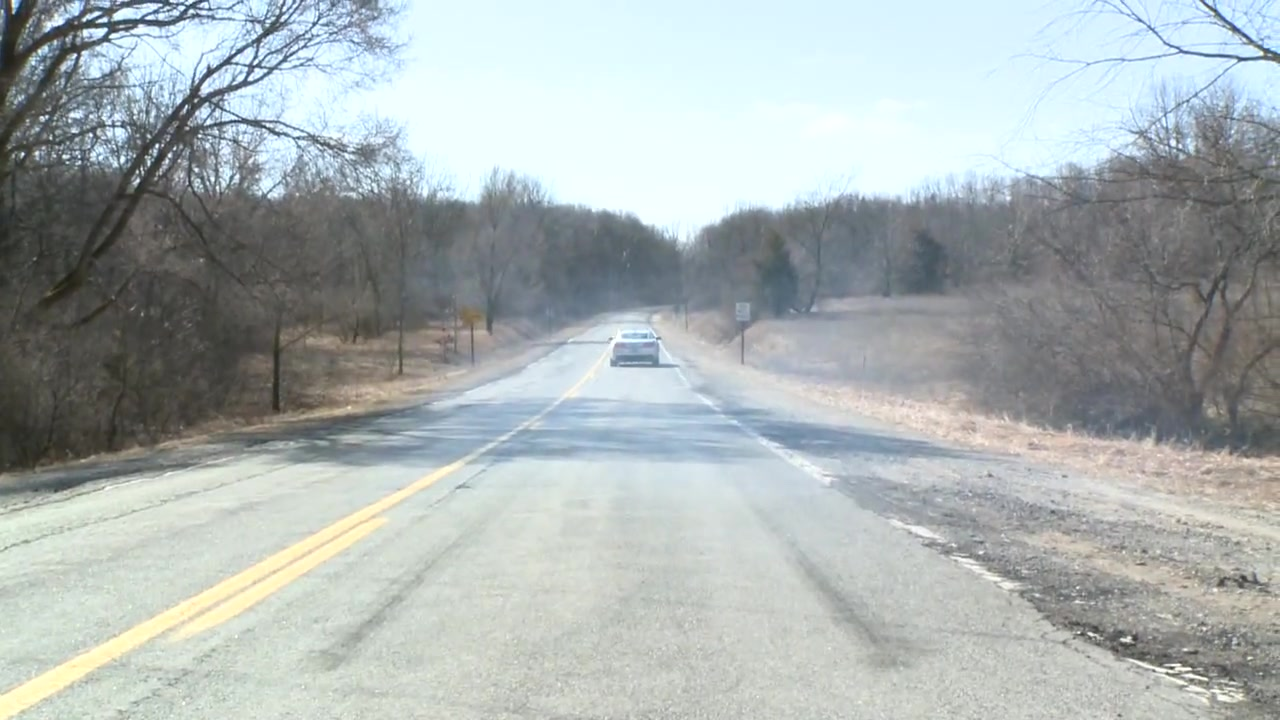car: (603, 325, 670, 374)
